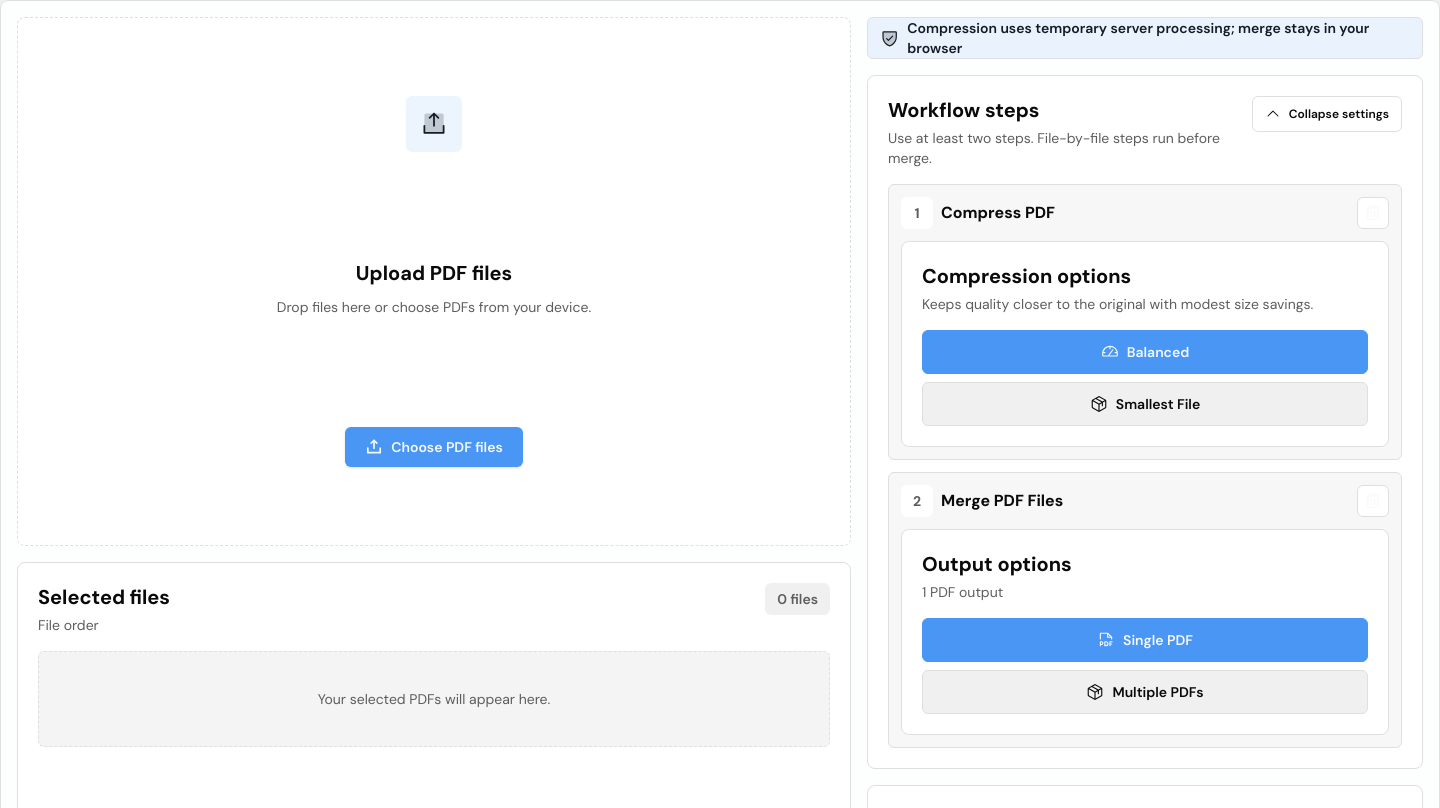
Test: WorkflowBuilderTool › disables running and guides users when only one step remains
The width and height of the screenshot is (1440, 808).
Step 1. Click the button named "Remove Compress PDF" → (1373, 213), box [1357, 197, 1389, 229]
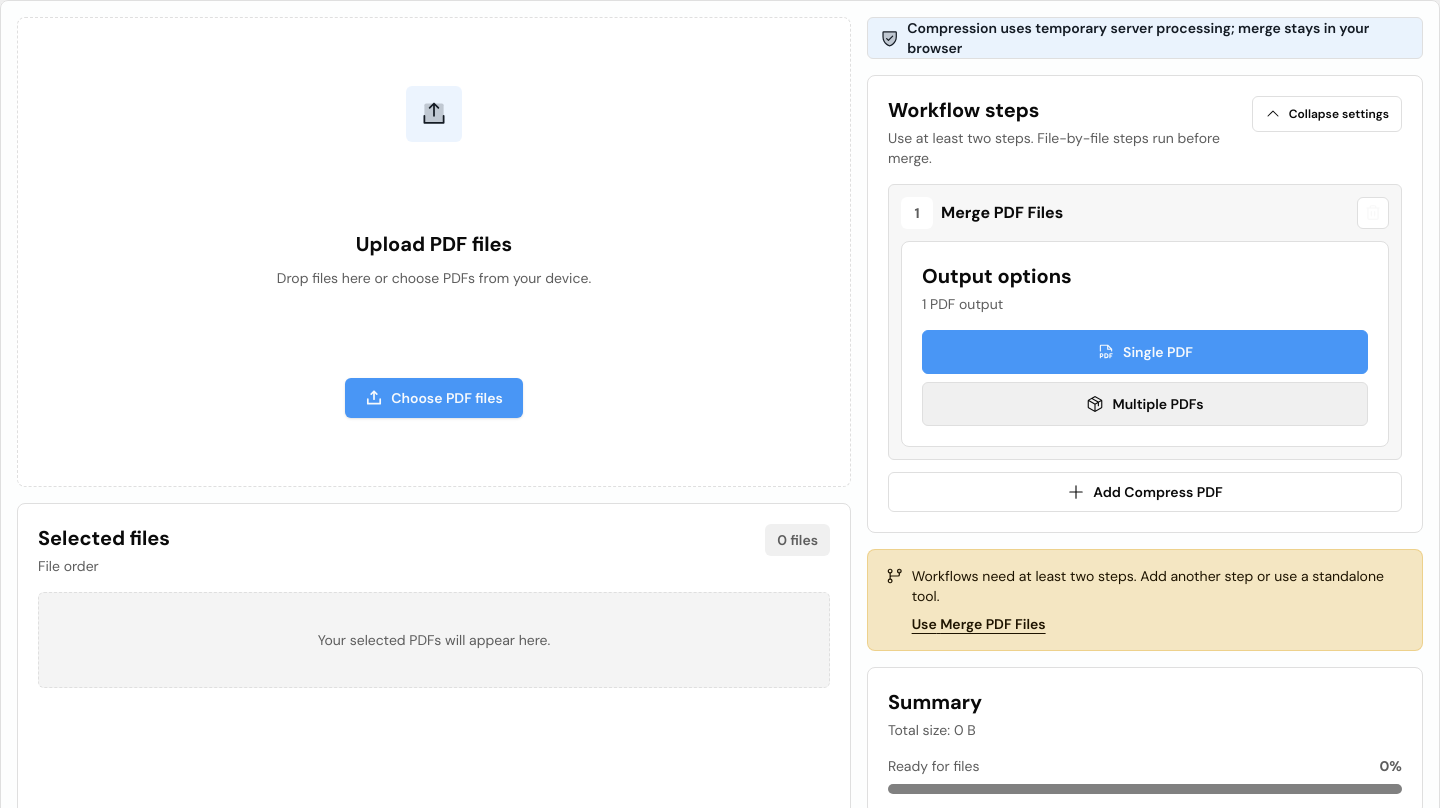
Result: the text "Workflows need at least two steps. Add another step or use a standalone tool." is shown at [912, 566, 1406, 606]
